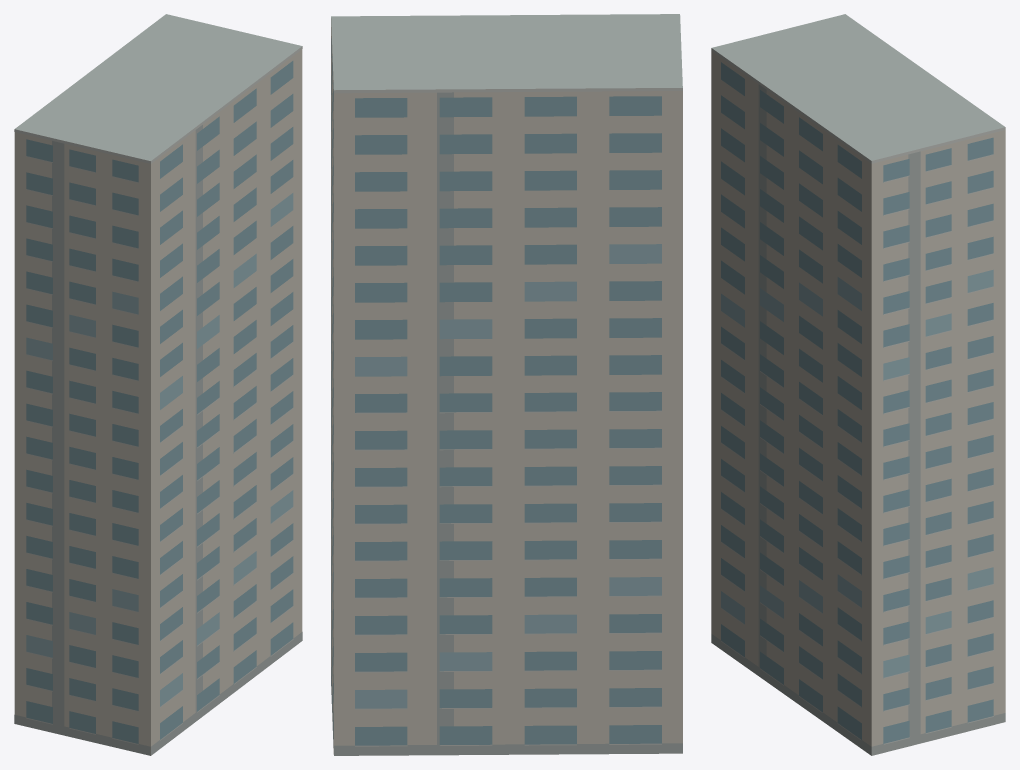
File: residential-9dba76c7-614b-4219-b073-4f72465e90dd.glb
3 views of the same model, side by side, from view 1: azimuth 30°, elevation 25°; view 2: azimuth 150°, elevation 25°; view 3: azimuth 270°, elevation 25° (orthographic). The views are drawn at different scales.
Visible parts, largest first — view 1: residential-9dba76c7-614b-4219-b073-4f72465e90dd.tmp; view 2: residential-9dba76c7-614b-4219-b073-4f72465e90dd.tmp; view 3: residential-9dba76c7-614b-4219-b073-4f72465e90dd.tmp.
Part boxes in pixels (x1,y1,x2,y2): residential-9dba76c7-614b-4219-b073-4f72465e90dd.tmp: (14,14,302,755); residential-9dba76c7-614b-4219-b073-4f72465e90dd.tmp: (331,14,682,755); residential-9dba76c7-614b-4219-b073-4f72465e90dd.tmp: (711,14,1005,755).
Size of the model in its own units: 27.56 by 52 by 23.31.
